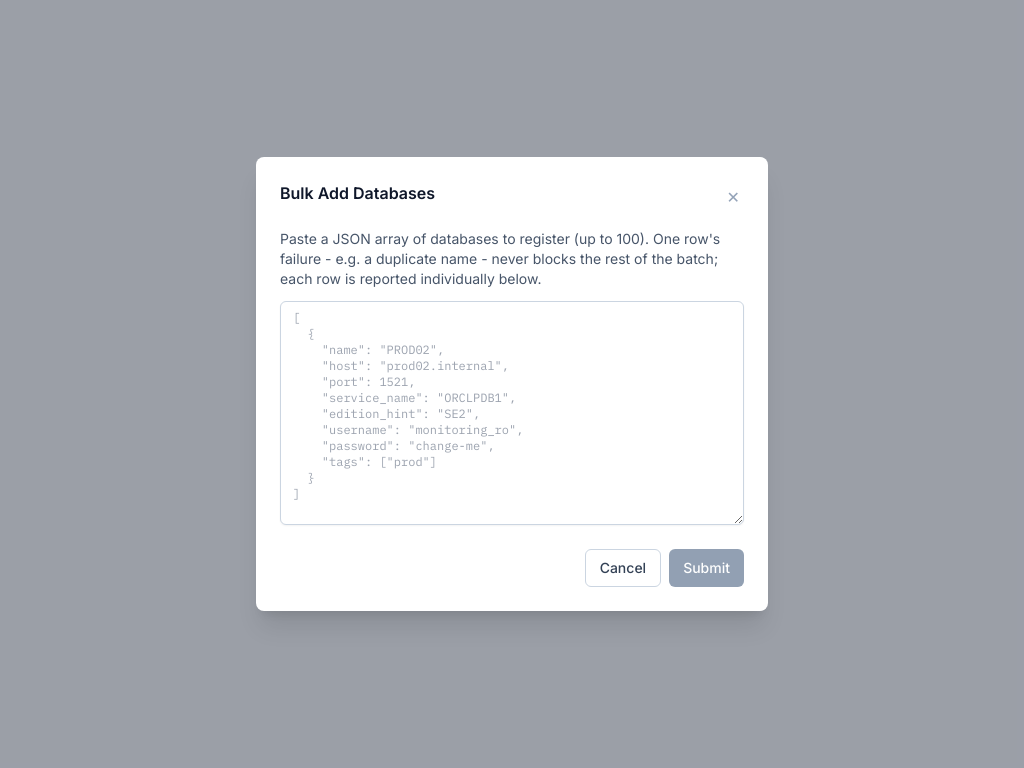
BulkAddModal › rejects invalid JSON before submitting
Replace the text in the text box with "not json". click: coordinates (512, 413)
box: [280,301,744,525]
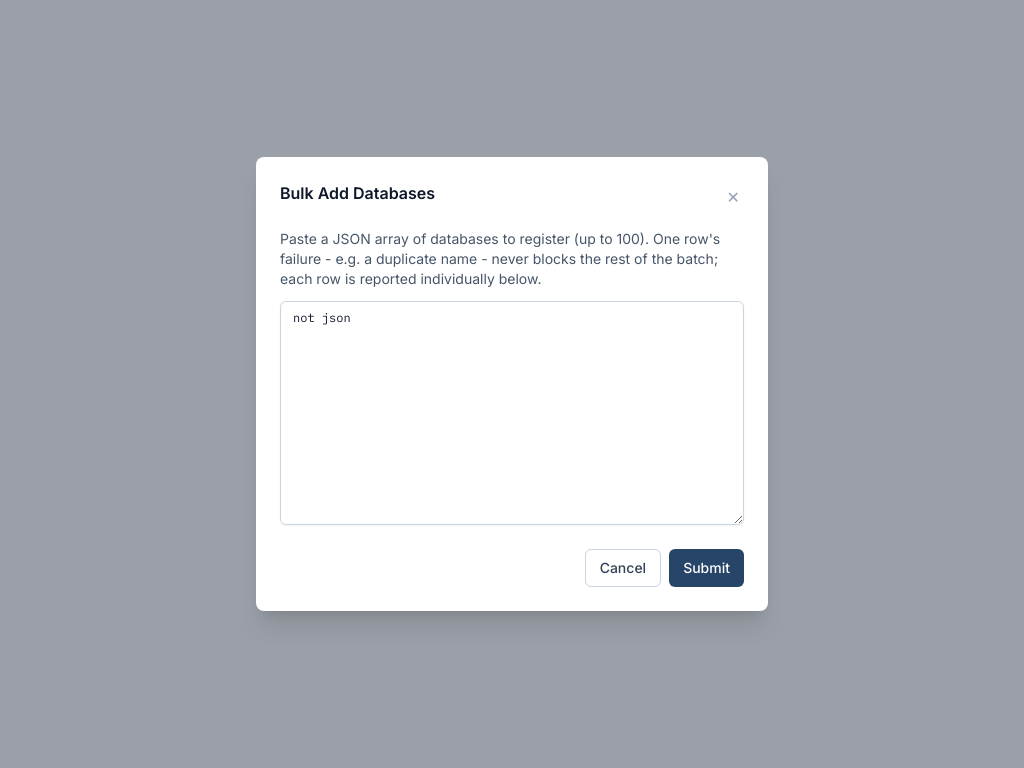
Click the button "Submit". click: coordinates (707, 568)
box: [669,549,744,587]
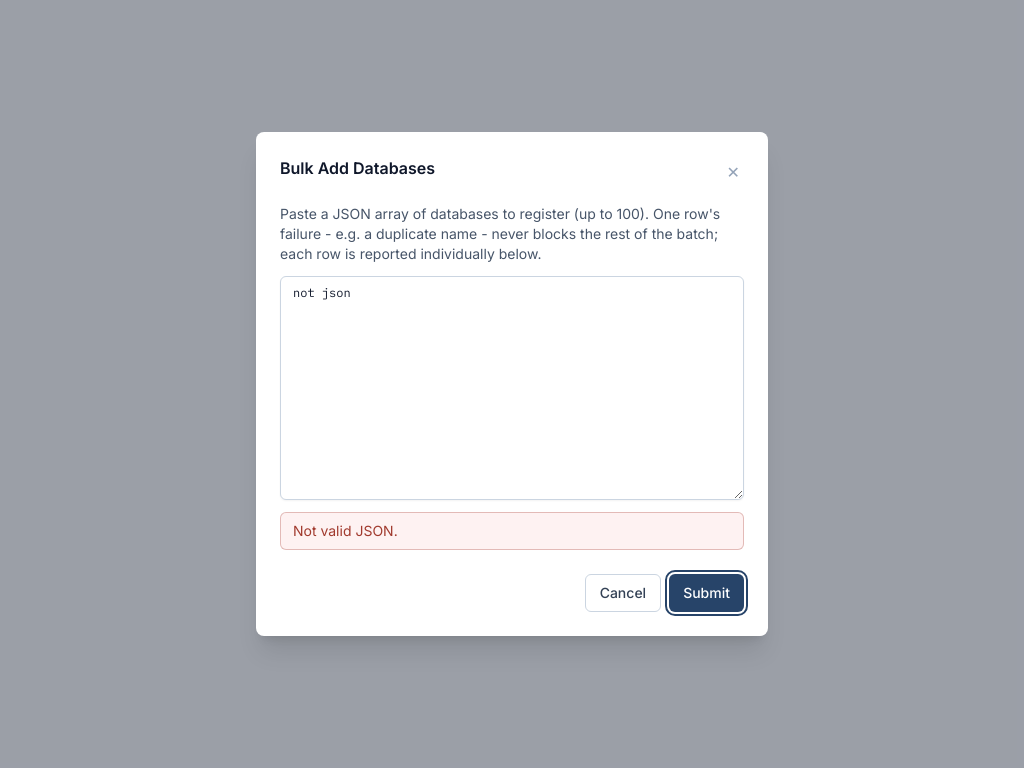
expect the text "Not valid JSON." is shown: met, box [280,512,744,550]
